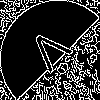V: (25, 25, 81, 82)
